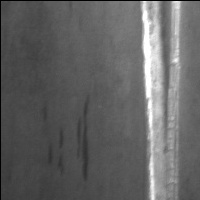inclusion: (74, 95, 93, 182), (47, 130, 67, 175)
scratches: (139, 2, 185, 200)
